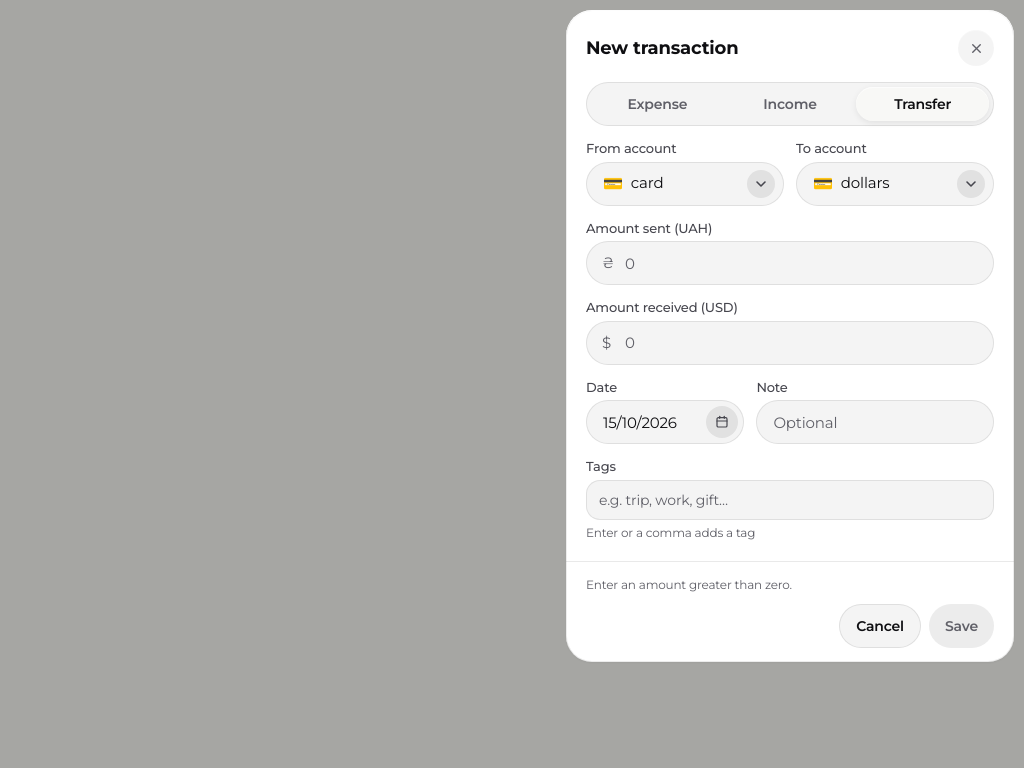
Test: TransactionSheet › asks what arrived of a transfer into another currency
In the field with placeholder "0": coordinates (790, 263) [586,241,994,285], type "4100"
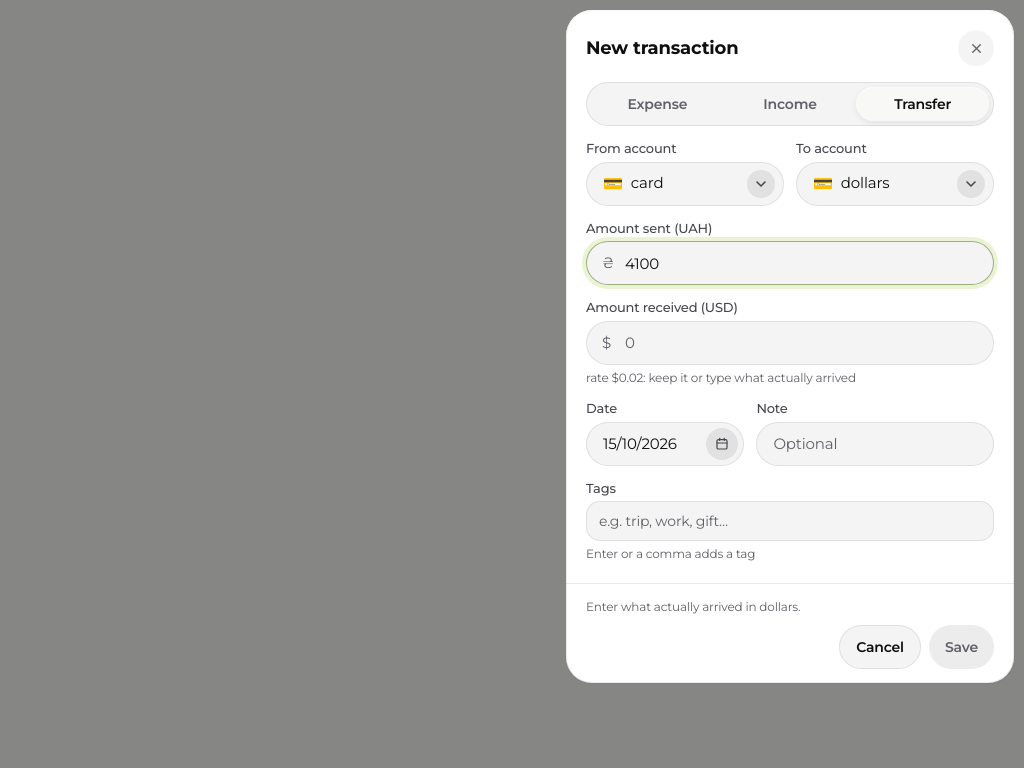
Expected: the text "Amount received (USD)" is shown, [586,299,738,315]
Expected: the text "rate $0.02: keep it or type what actually arrived" is shown, [586,370,856,385]
Expected: the text "Enter what actually arrived in dollars." is shown, [586,598,800,614]
